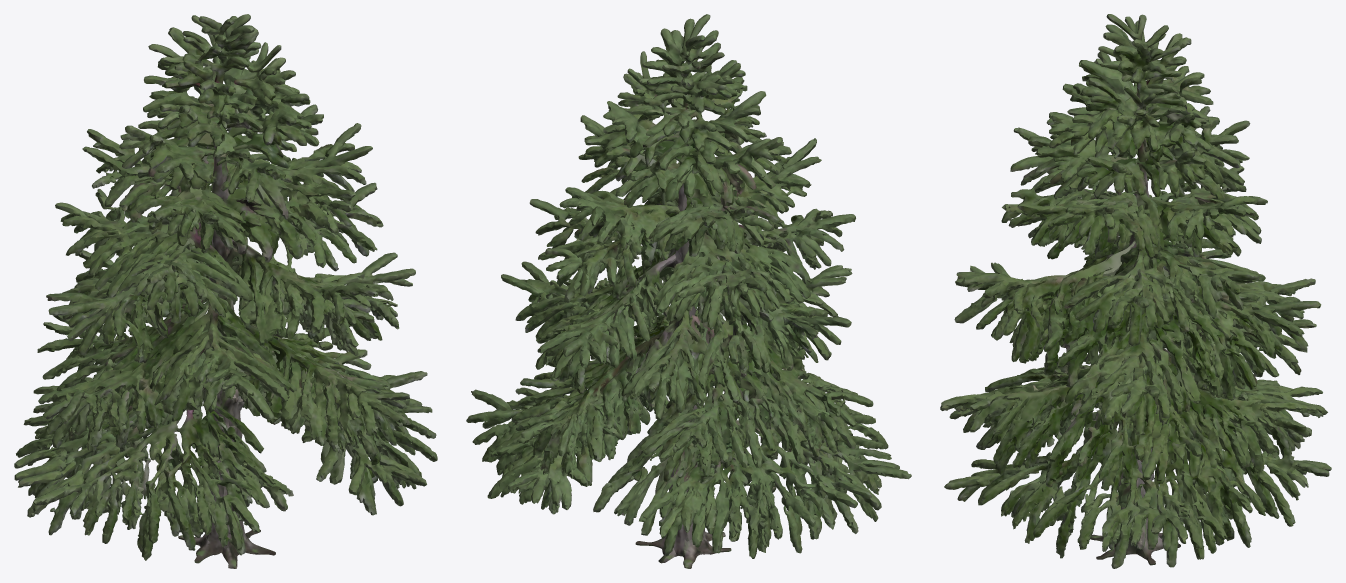
The model's file is fir-fabri-01.glb.
3 views of the same model, side by side, from view 1: azimuth 30°, elevation 25°; view 2: azimuth 150°, elevation 25°; view 3: azimuth 270°, elevation 25° (orthographic). The views are drawn at different scales.
Visible parts, largest first — view 1: geometry_0; view 2: geometry_0; view 3: geometry_0.
Part boxes in pixels (bbox=[...]): geometry_0: bbox=[14, 14, 437, 568]; geometry_0: bbox=[466, 14, 911, 568]; geometry_0: bbox=[940, 14, 1331, 568].
Size of the model in its own units: 6.56 by 8 by 5.39.
1 material, 1 textured.
